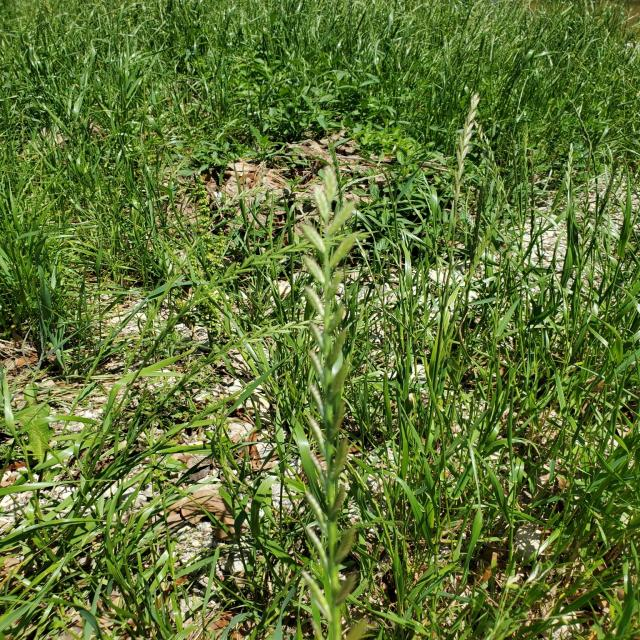Lolium: (3, 5, 637, 638), (281, 184, 371, 640), (434, 86, 489, 366)
